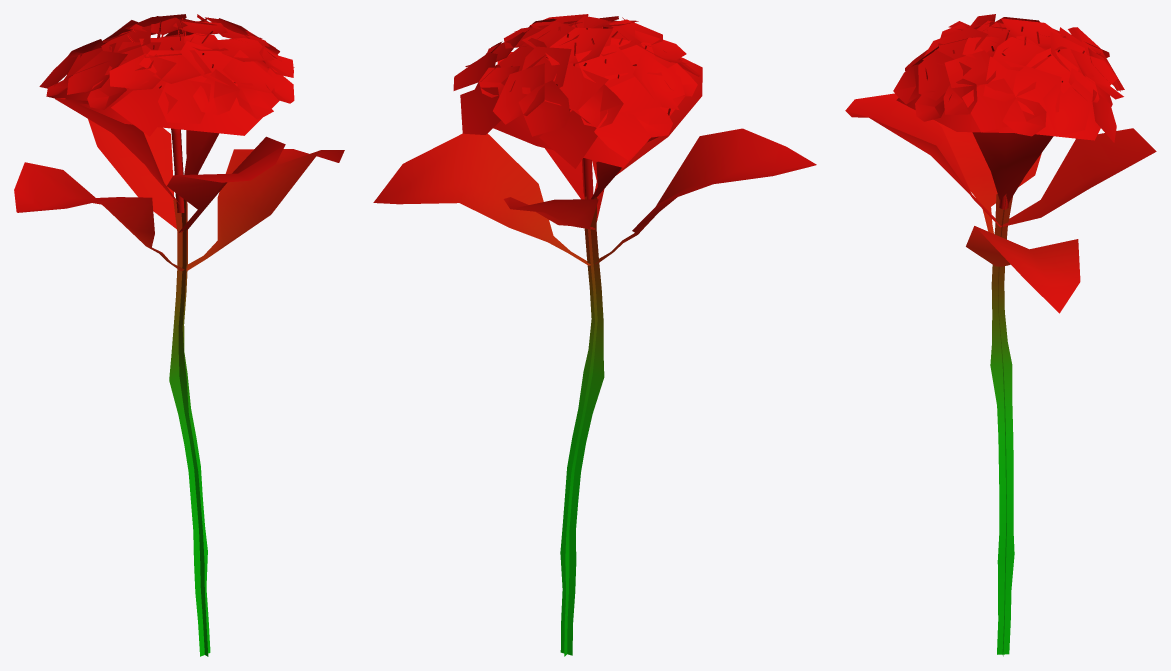
Rendered from Var10_LOD3.fbx.
3 views of the same model, side by side, from view 1: azimuth 30°, elevation 25°; view 2: azimuth 150°, elevation 25°; view 3: azimuth 270°, elevation 25° (orthographic). The views are drawn at different scales.
Visible parts, largest first — view 1: _ljn3_Var10_LOD3; view 2: _ljn3_Var10_LOD3; view 3: _ljn3_Var10_LOD3.
Boxes of the visible parts, box(x1,y1,x2,y2) form: _ljn3_Var10_LOD3: box(14, 14, 344, 656); _ljn3_Var10_LOD3: box(373, 14, 816, 656); _ljn3_Var10_LOD3: box(845, 14, 1156, 656).
Bounding box in the file's own units: 30.61 × 48.49 × 22.25.
